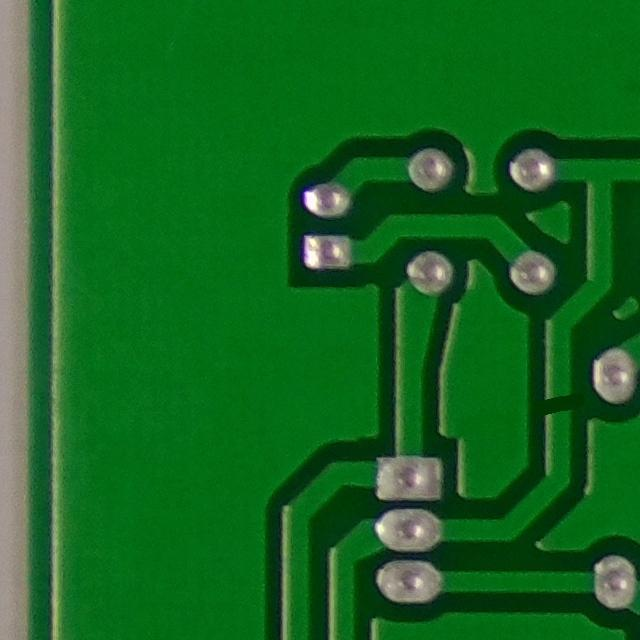open_circuit: (531, 379, 584, 426)
